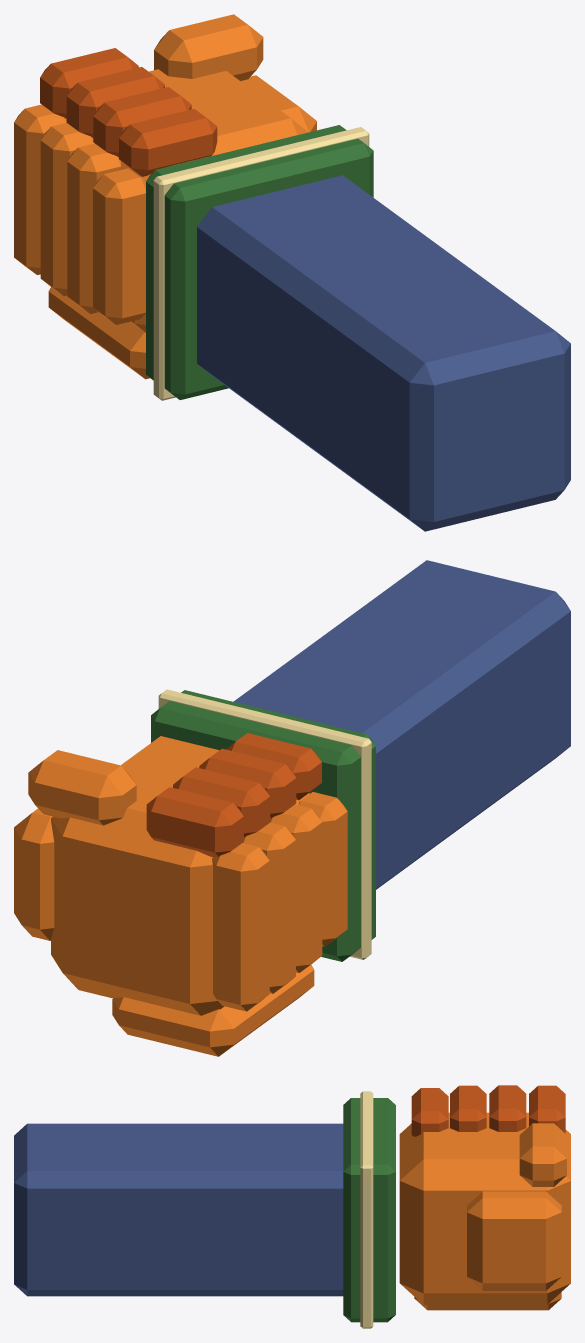
Rendered from hand_left.glb.
3 views of the same model, one above another, from view 1: azimuth 30°, elevation 25°; view 2: azimuth 150°, elevation 25°; view 3: azimuth 270°, elevation 25° (orthographic). The views are drawn at different scales.
Visible parts, largest first — view 1: Fabric__465A8C, SmoothPlastic__F08228, Fabric__3C783C, SmoothPlastic__C8581A, SmoothPlastic__F6E2A0; view 2: SmoothPlastic__F08228, Fabric__465A8C, SmoothPlastic__C8581A, Fabric__3C783C, SmoothPlastic__F6E2A0; view 3: Fabric__465A8C, SmoothPlastic__F08228, Fabric__3C783C, SmoothPlastic__C8581A, SmoothPlastic__F6E2A0.
Part boxes in pixels (x1,y1,x2,y2): Fabric__465A8C: (197, 175, 570, 531); SmoothPlastic__F08228: (14, 14, 316, 379); Fabric__3C783C: (146, 125, 373, 399); SmoothPlastic__C8581A: (40, 48, 217, 176); SmoothPlastic__F6E2A0: (153, 127, 369, 400); SmoothPlastic__F08228: (14, 736, 347, 1056); Fabric__465A8C: (233, 560, 570, 889); SmoothPlastic__C8581A: (146, 733, 321, 857); Fabric__3C783C: (151, 690, 375, 961); SmoothPlastic__F6E2A0: (158, 689, 371, 959); Fabric__465A8C: (14, 1123, 343, 1296); SmoothPlastic__F08228: (399, 1112, 570, 1310); Fabric__3C783C: (343, 1098, 395, 1322); SmoothPlastic__C8581A: (411, 1085, 565, 1136); SmoothPlastic__F6E2A0: (360, 1091, 373, 1328).
Size of the model in its own units: 1.65 by 1.62 by 4.23.
